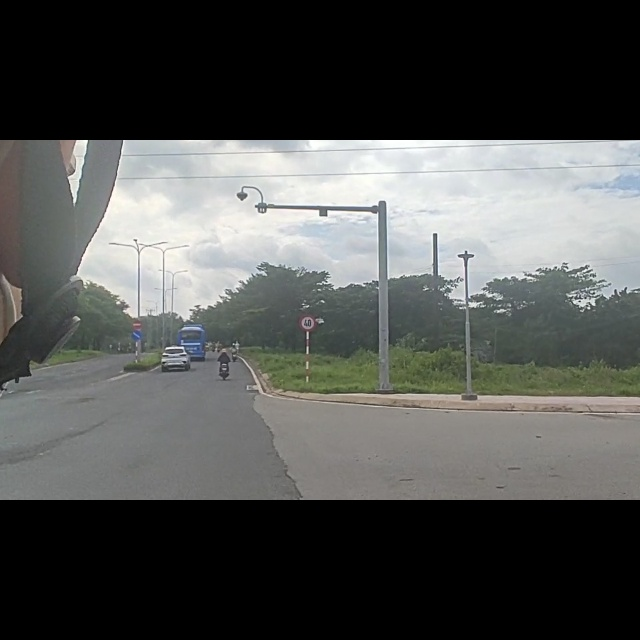bien_hieu_lenh: (299, 308, 317, 339), (131, 316, 142, 339), (131, 335, 142, 358)
